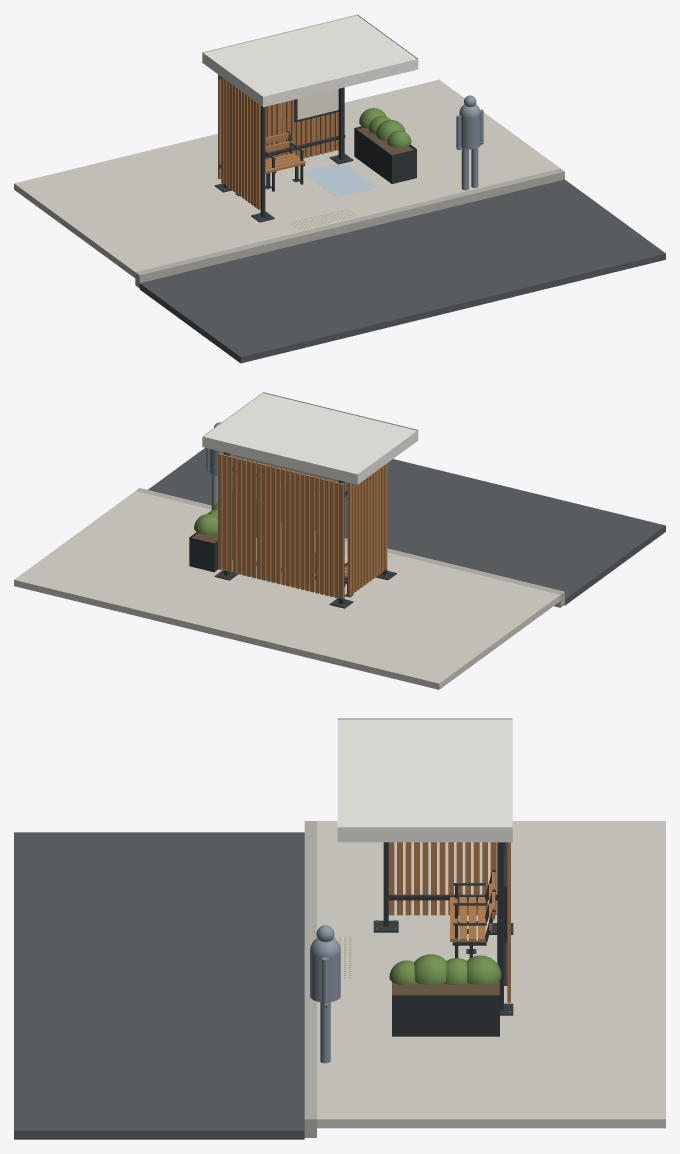
The model's file is sombra-da-ria-compacto.glb.
3 renders of one model, top to bottom at view 1: azimuth 30°, elevation 25°; view 2: azimuth 150°, elevation 25°; view 3: azimuth 270°, elevation 25°, orthographic. The views are drawn at different scales.
Visible parts, largest first — view 1: A0-faixa-01, A0-passeio-01, A2.1-cobertura-01, A0-lancil-01, A3.1-ripado-lateral-01, A3.1-ripado-costas-01, A0-figura-01, A2.2-aba-01, A0-zona-cadeira-rodas-01, A4.4-jardineira-03, A4.3-painel-cartaz-01, A4.2-banco-assento-01 (+4 smaller); view 2: A0-passeio-01, A0-faixa-01, A3.1-ripado-costas-01, A2.1-cobertura-01, A3.1-ripado-lateral-01, A2.2-aba-02, A0-lancil-01, A4.4-jardineira-02, A2.2-aba-03, A0-figura-01; view 3: A0-faixa-01, A0-passeio-01, A2.1-cobertura-01, A3.1-ripado-lateral-01, A4.4-jardineira-04, A0-lancil-01, A2.2-aba-04, A0-figura-01, A4.2-banco-assento-01, A0-terra-01, A4.1-banco-estrutura-01, A1.1-pilar-02 (+3 smaller).
Boxes of the visible parts, x1,y1,x2,y2 form: A0-faixa-01: (139,179,665,363); A0-passeio-01: (14,79,560,277); A2.1-cobertura-01: (204,15,416,96); A0-lancil-01: (135,168,564,287); A3.1-ripado-lateral-01: (221,77,260,209); A3.1-ripado-costas-01: (218,74,338,179); A0-figura-01: (456,95,483,190); A2.2-aba-01: (263,59,418,107); A0-zona-cadeira-rodas-01: (303,163,376,197); A4.4-jardineira-03: (354,128,391,183); A4.3-painel-cartaz-01: (297,89,338,119); A4.2-banco-assento-01: (265,132,305,173); A0-passeio-01: (14,491,560,689); A0-faixa-01: (148,447,665,605); A3.1-ripado-costas-01: (218,453,344,599); A2.1-cobertura-01: (204,393,416,474); A3.1-ripado-lateral-01: (347,463,387,596); A2.2-aba-02: (202,436,357,484); A0-lancil-01: (136,488,564,607); A4.4-jardineira-02: (189,537,214,572); A2.2-aba-03: (357,430,418,484); A0-figura-01: (206,422,233,509); A0-faixa-01: (14,832,304,1139); A0-passeio-01: (317,821,665,1128); A2.1-cobertura-01: (338,719,512,827); A3.1-ripado-lateral-01: (388,842,496,915); A4.4-jardineira-04: (392,995,499,1036); A0-lancil-01: (304,821,316,1137); A2.2-aba-04: (338,827,512,842); A0-figura-01: (310,925,340,1063); A4.2-banco-assento-01: (450,870,495,941); A0-terra-01: (392,981,499,995); A4.1-banco-estrutura-01: (452,869,495,958); A1.1-pilar-02: (497,842,503,1010).
Bounding box in the file's own units: 8500 × 3460 × 7850.
